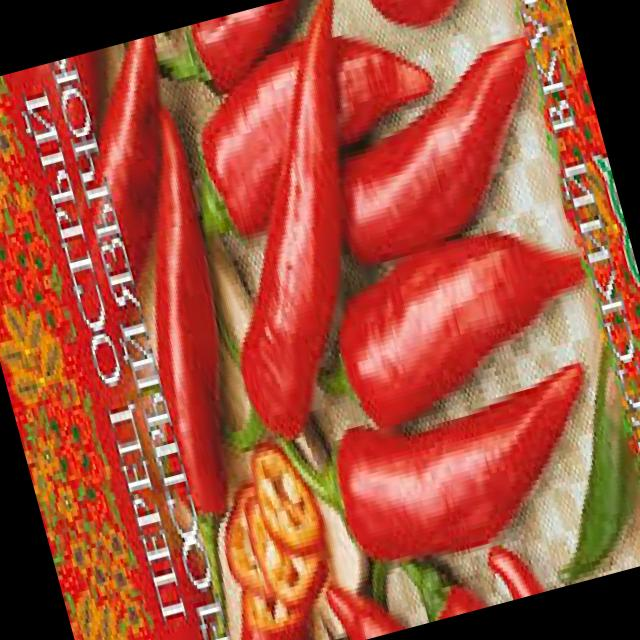hot pepper: (116, 0, 460, 498), (66, 112, 309, 599), (276, 341, 632, 614), (295, 174, 628, 461), (269, 14, 589, 284), (172, 8, 472, 275), (29, 33, 226, 337), (502, 331, 640, 585), (176, 441, 349, 640), (163, 0, 368, 116), (345, 0, 540, 73), (378, 526, 487, 630), (301, 552, 417, 640), (468, 525, 550, 607)
